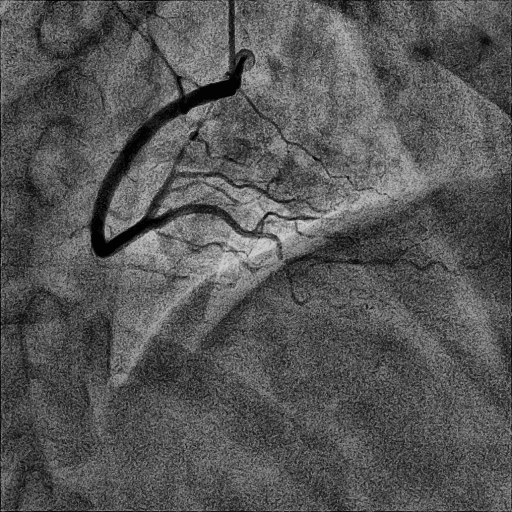pborca: (145, 133, 243, 220)
pda: (152, 204, 283, 258)
rca: (90, 80, 235, 259)
